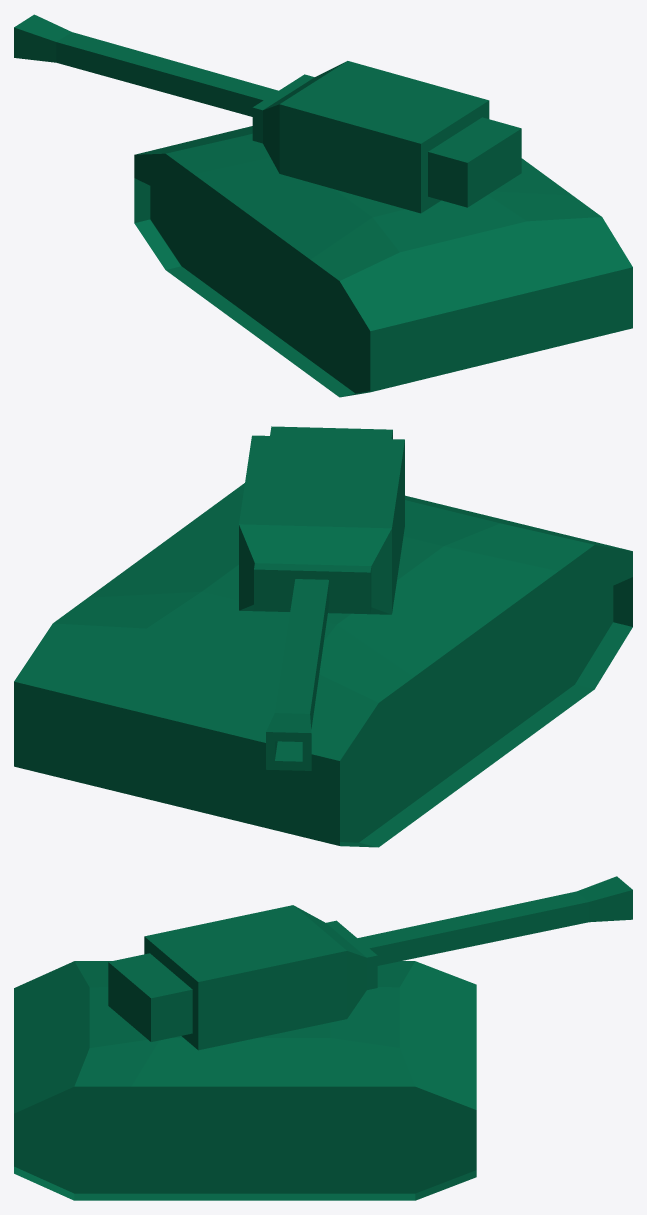
The model's file is TankModel.gltf.
3 renders of one model, top to bottom at view 1: azimuth 30°, elevation 25°; view 2: azimuth 150°, elevation 25°; view 3: azimuth 270°, elevation 25°, orthographic. The views are drawn at different scales.
Visible parts, largest first — view 1: Cube; view 2: Cube; view 3: Cube.
Part boxes in pixels (x1,y1,x2,y2): Cube: (14,14,632,397); Cube: (14,426,632,847); Cube: (14,876,632,1200).
Bounding box in the file's own units: 6.19 × 3.78 × 10.87.
